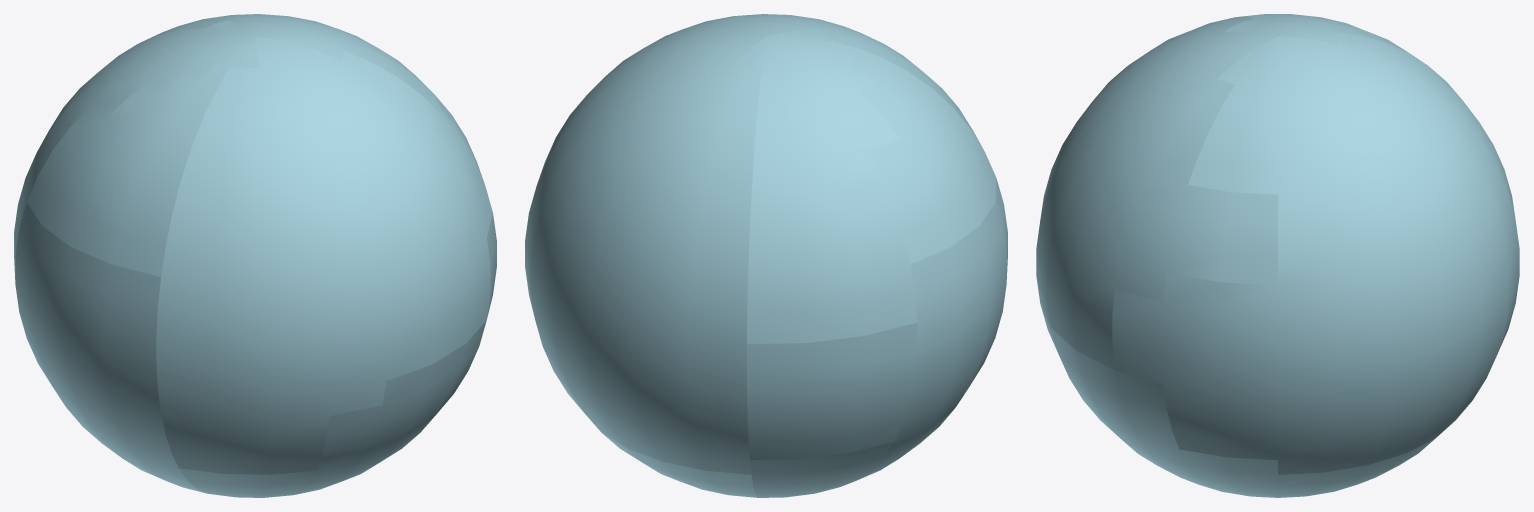
Rendered from pop1_final.glb.
The picture shows the model from 3 angles, left to right: view 1: azimuth 30°, elevation 25°; view 2: azimuth 150°, elevation 25°; view 3: azimuth 270°, elevation 25°; orthographic projection.
Parts seen in each view (by area): view 1: aath, char, paach, che, teen, noa; view 2: noa, teen, do1, paach, char, ek, aath, che; view 3: noa, aath, che, teen.
Part boxes in pixels (bbox=[...]): aath: bbox=[156, 36, 492, 474]; char: bbox=[15, 203, 205, 493]; paach: bbox=[26, 63, 229, 276]; che: bbox=[179, 321, 486, 497]; teen: bbox=[14, 20, 259, 256]; noa: bbox=[140, 14, 496, 318]; noa: bbox=[525, 15, 766, 474]; teen: bbox=[734, 28, 917, 343]; do1: bbox=[747, 322, 917, 459]; paach: bbox=[826, 40, 996, 264]; char: bbox=[856, 178, 1007, 480]; ek: bbox=[750, 442, 893, 497]; aath: bbox=[709, 14, 983, 149]; che: bbox=[602, 433, 757, 497]; noa: bbox=[1112, 32, 1519, 474]; aath: bbox=[1036, 21, 1277, 370]; che: bbox=[1040, 304, 1435, 497]; teen: bbox=[1224, 14, 1423, 62].
Bounding box in the file's own units: 0.0398 × 0.04 × 0.0398.
